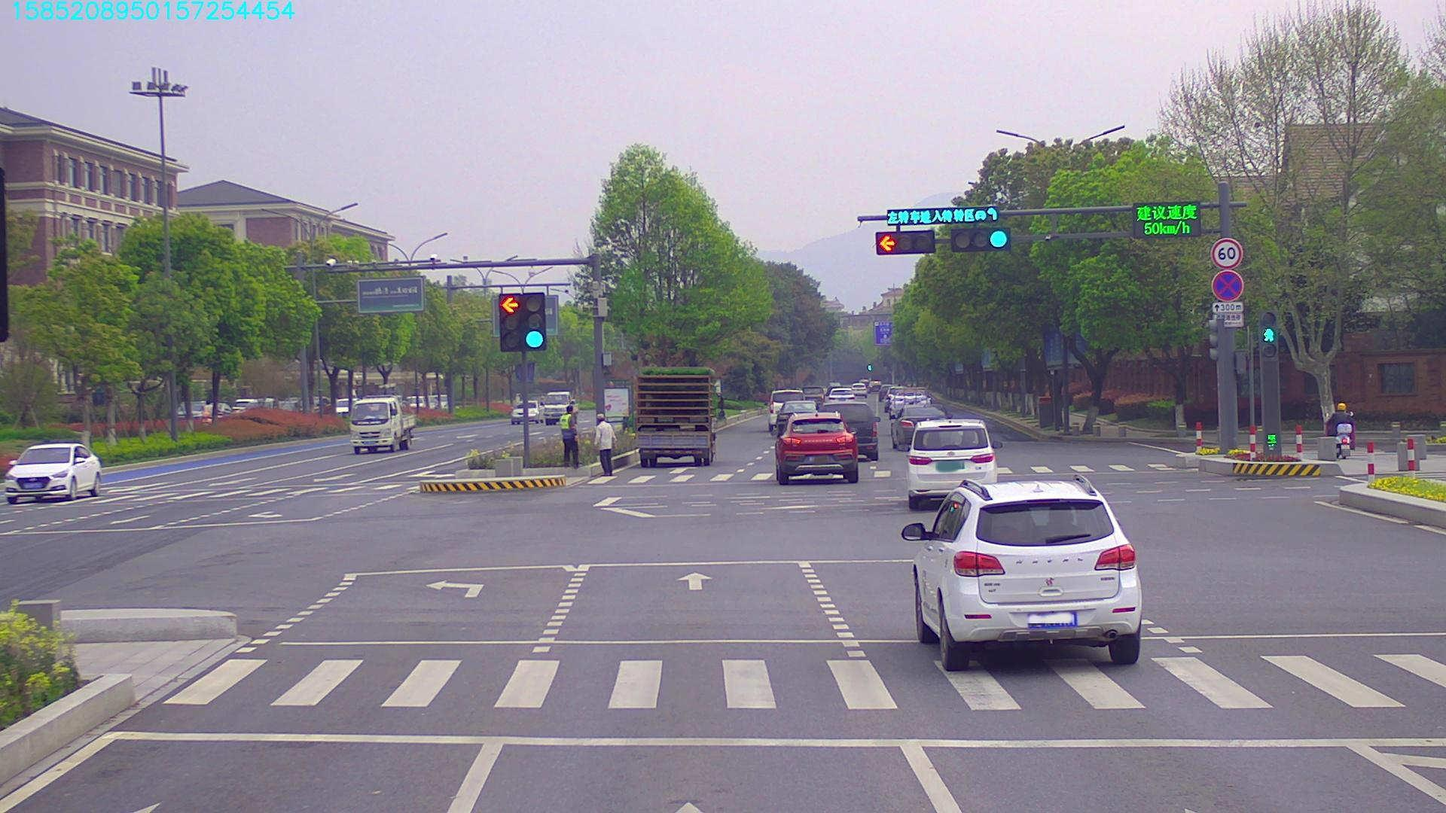green: (947, 227, 1010, 253)
red: (877, 231, 937, 253)
wait_on: (888, 209, 1003, 226)
